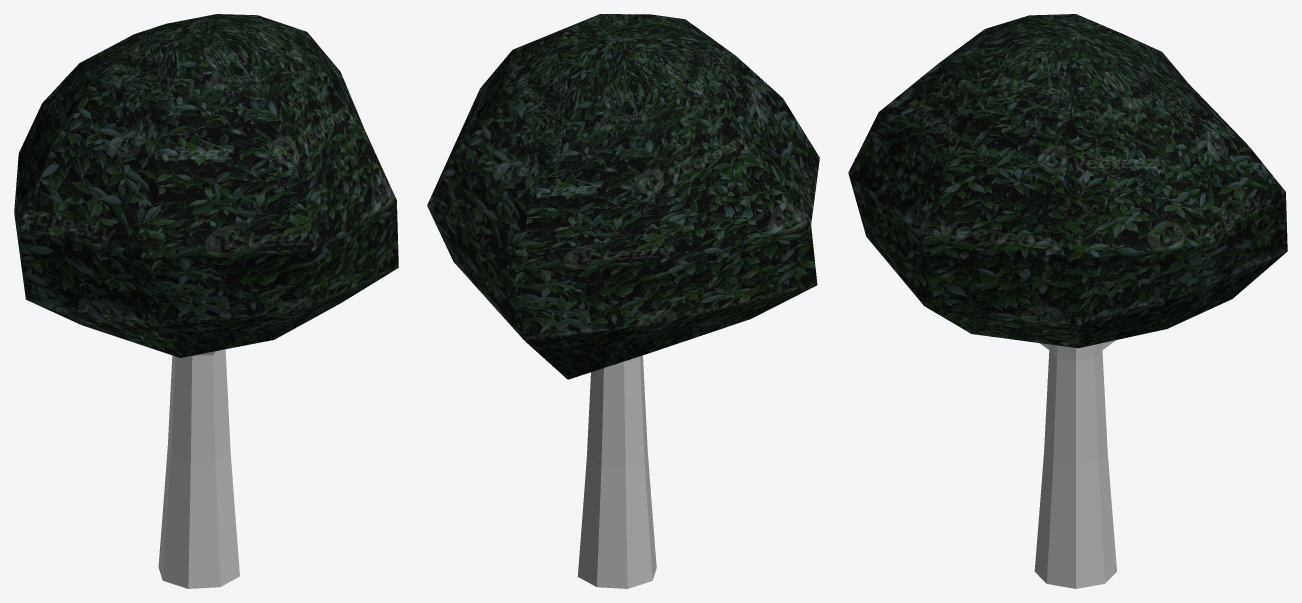
The model's file is TreeTree.fbx.
3 views of the same model, side by side, from view 1: azimuth 30°, elevation 25°; view 2: azimuth 150°, elevation 25°; view 3: azimuth 270°, elevation 25° (orthographic). The views are drawn at different scales.
Parts seen in each view (by area): view 1: Sphere, Cylinder; view 2: Sphere, Cylinder; view 3: Sphere, Cylinder.
Part boxes in pixels (x1,y1,x2,y2): Sphere: (14,14,398,357); Cylinder: (158,349,239,588); Sphere: (427,14,819,379); Cylinder: (578,355,656,588); Sphere: (848,14,1287,348); Cylinder: (1034,340,1116,588).
Size of the model in its own units: 9.79 by 14.42 by 10.65.
